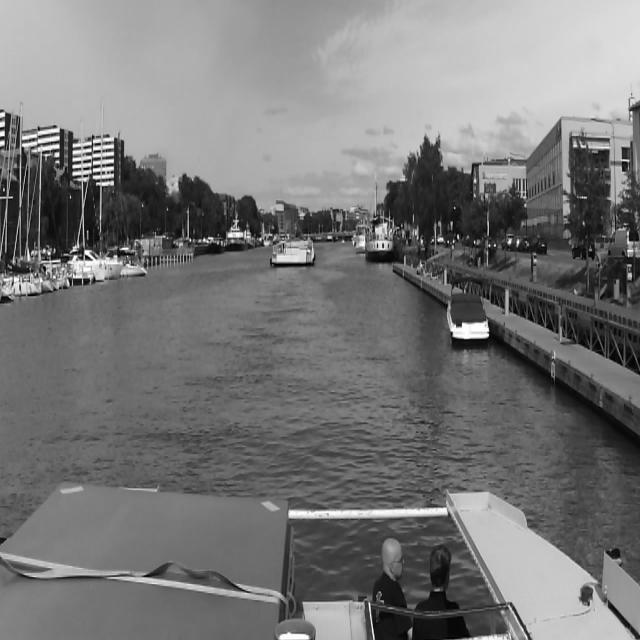ship: (72, 91, 122, 279), (1, 99, 40, 297), (122, 87, 148, 277), (448, 290, 491, 342), (368, 212, 396, 258), (269, 237, 313, 264), (226, 210, 246, 250), (353, 223, 365, 250)
